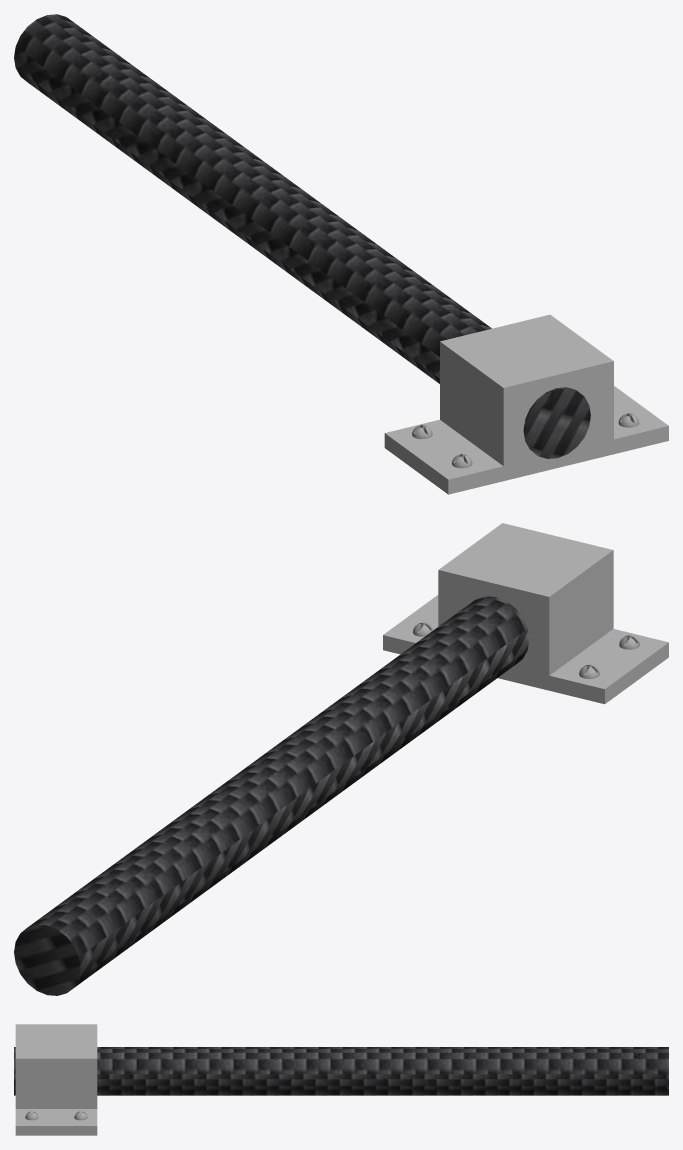
File: rod and holder.fbx
3 renders of one model, top to bottom at view 1: azimuth 30°, elevation 25°; view 2: azimuth 150°, elevation 25°; view 3: azimuth 270°, elevation 25°, orthographic. The views are drawn at different scales.
Visible parts, largest first — view 1: rod2, pCube12; view 2: rod2, pCube12; view 3: rod2, pCube12.
Part boxes in pixels (x1,y1,x2,y2): rod2: (14,14,590,458); pCube12: (384,314,668,494); rod2: (14,596,529,995); pCube12: (383,523,668,704); rod2: (14,1047,668,1095); pCube12: (15,1024,97,1135).
Size of the model in its own units: 0.02 by 0.00808 by 0.0802.
